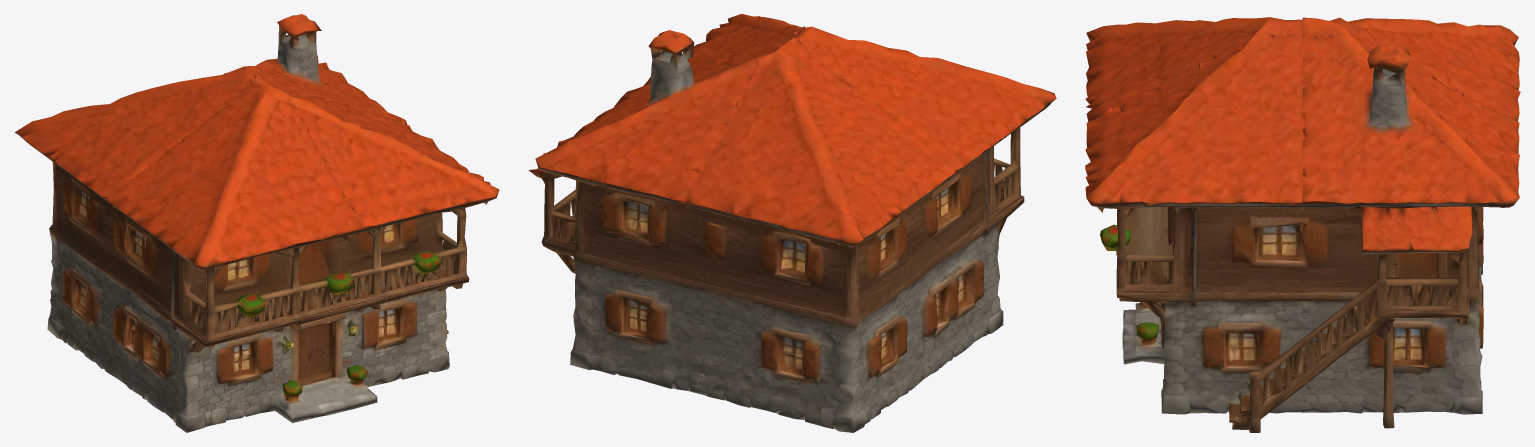
Rendered from ev-karadere.glb.
The picture shows the model from 3 angles, left to right: view 1: azimuth 30°, elevation 25°; view 2: azimuth 150°, elevation 25°; view 3: azimuth 270°, elevation 25°; orthographic projection. The views are drawn at different scales.
Visible parts, largest first — view 1: tripo_node_a4118d49-cfce-41c8-a5c9-80c1f91d57b4; view 2: tripo_node_a4118d49-cfce-41c8-a5c9-80c1f91d57b4; view 3: tripo_node_a4118d49-cfce-41c8-a5c9-80c1f91d57b4.
Boxes of the visible parts, x1,y1,x2,y2 form: tripo_node_a4118d49-cfce-41c8-a5c9-80c1f91d57b4: [15, 14, 499, 432]; tripo_node_a4118d49-cfce-41c8-a5c9-80c1f91d57b4: [528, 14, 1056, 432]; tripo_node_a4118d49-cfce-41c8-a5c9-80c1f91d57b4: [1085, 17, 1520, 432].
Bounding box in the file's own units: 0.983 × 0.831 × 0.9745.
Materials: 1 (1 with a texture image).
